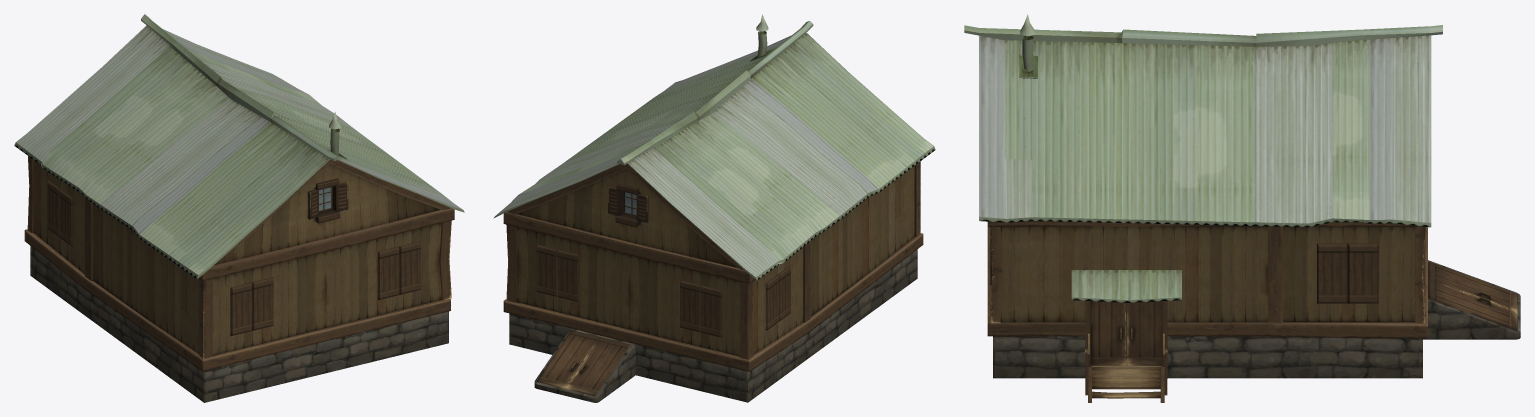
Rendered from warehouse.fbx.
3 views of the same model, side by side, from view 1: azimuth 30°, elevation 25°; view 2: azimuth 150°, elevation 25°; view 3: azimuth 270°, elevation 25° (orthographic). The views are drawn at different scales.
Parts seen in each view (by area): view 1: GEOM0_LOD0; view 2: GEOM0_LOD0; view 3: GEOM0_LOD0.
Boxes of the visible parts, left/top/right/bottom form: GEOM0_LOD0: left=14, top=14, right=464, bottom=402; GEOM0_LOD0: left=493, top=14, right=935, bottom=402; GEOM0_LOD0: left=964, top=14, right=1520, bottom=402.
Size of what is drawn, in the model's own units: 1037 by 816 by 1354.
